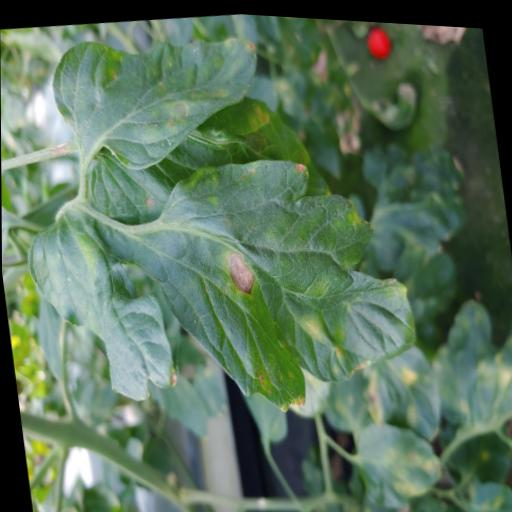Leaf Mold: (20, 129, 427, 446), (47, 16, 272, 185), (353, 410, 447, 512)
